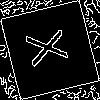X: (25, 24, 79, 68)
